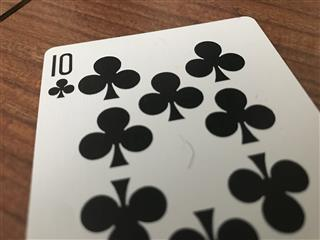TenOfClubs: (24, 15, 320, 240)
